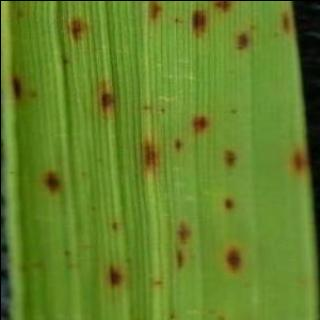bercak-Cokelat: (13, 71, 35, 101), (98, 79, 114, 113), (143, 139, 158, 170), (290, 146, 307, 171), (67, 16, 85, 39), (192, 9, 206, 35), (44, 171, 61, 191), (226, 246, 239, 270), (193, 114, 208, 132), (110, 265, 121, 285), (224, 148, 236, 165), (213, 0, 231, 10), (149, 0, 160, 16), (237, 32, 247, 48)
